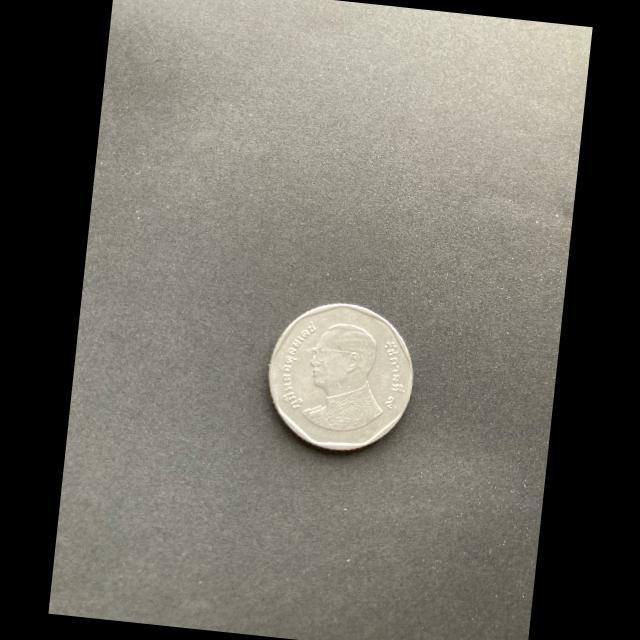5 Bath: (264, 300, 419, 460)
